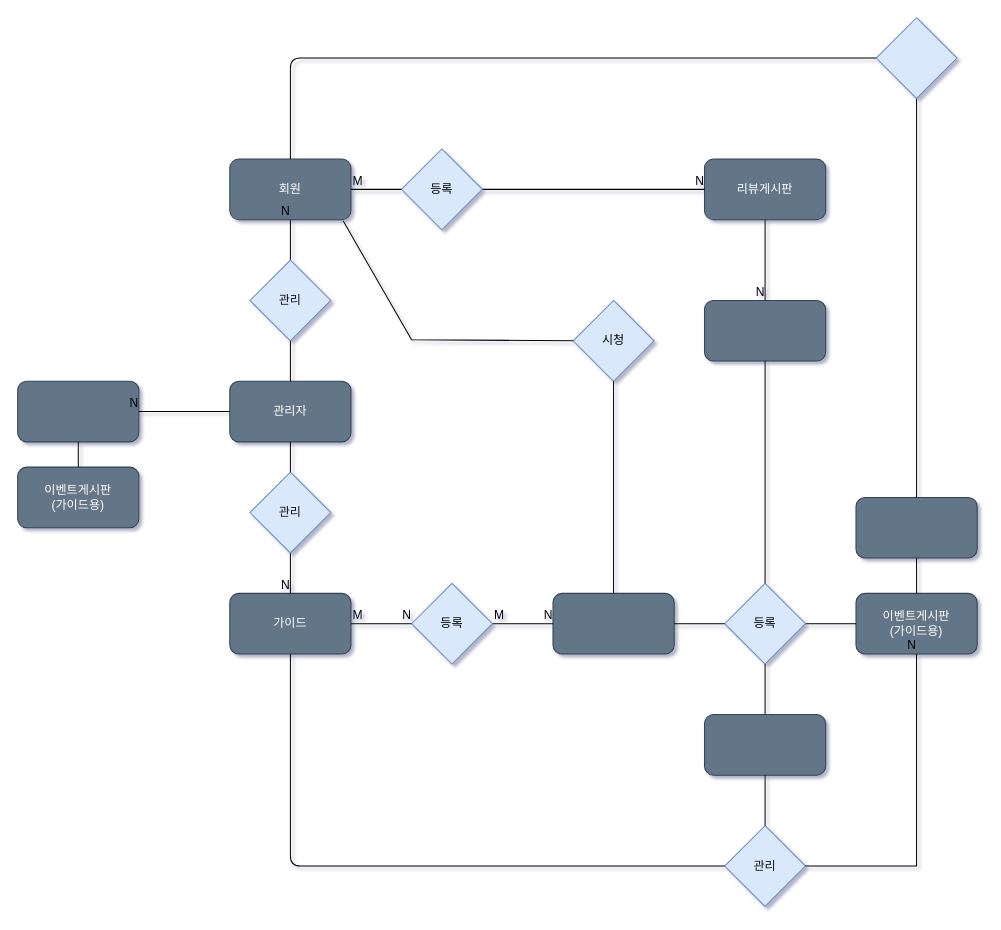
Some shapes in this 1001 by 930 pixel diagram are drawn without their labels. Each missing label, with the centre of its shape:
공지게시판: (78,411)
문의게시판 (가이드전용): (764,744)
문의게시판 (회원전용): (764,330)
상품: (613,623)
조회: (916,57)
홍보게시판: (916,527)
